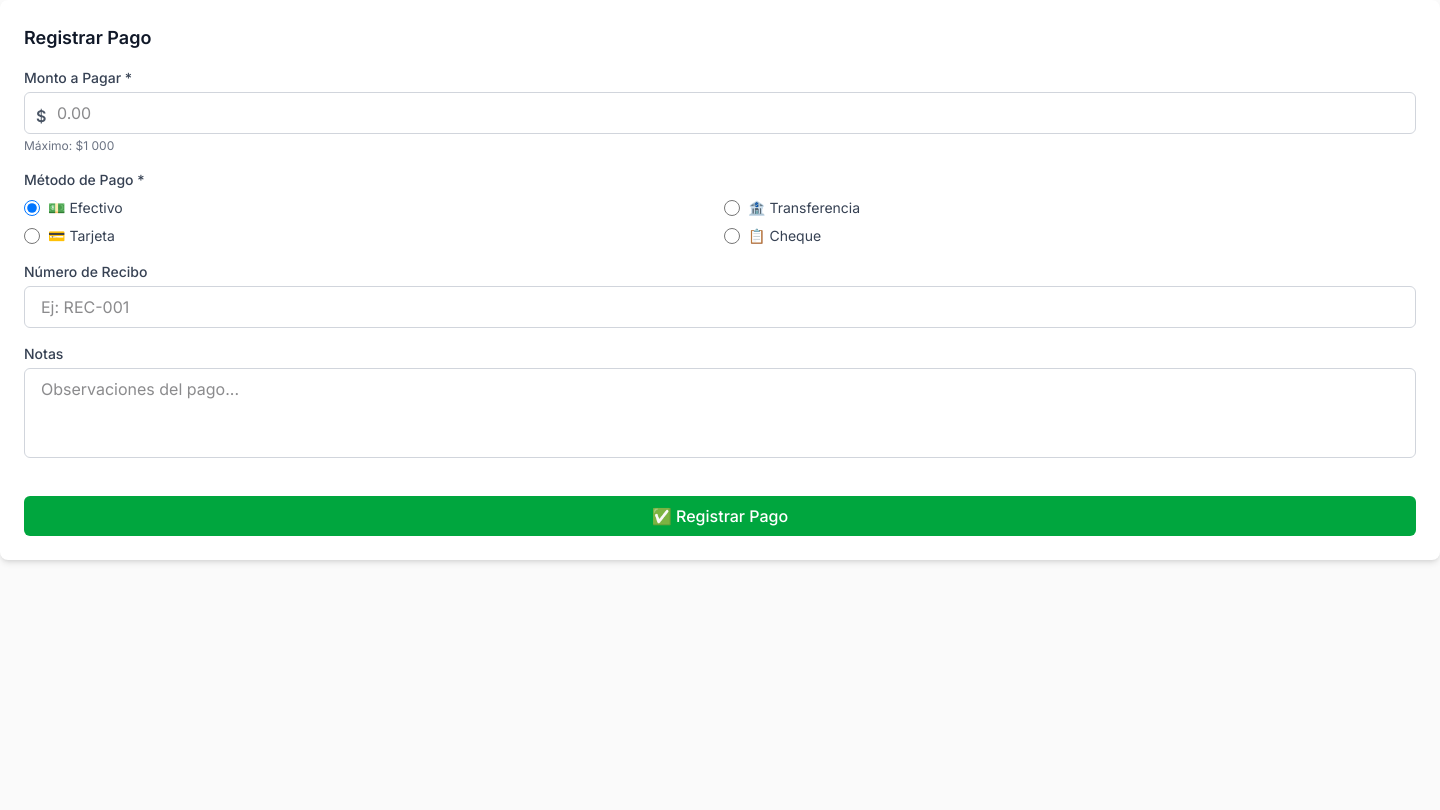
Scenario: PaymentForm Component › should show success message after successful submission
The width and height of the screenshot is (1440, 810).
Step 1. Type "500" into the number field with placeholder "0.00" → (720, 113), box [24,92,1416,134]
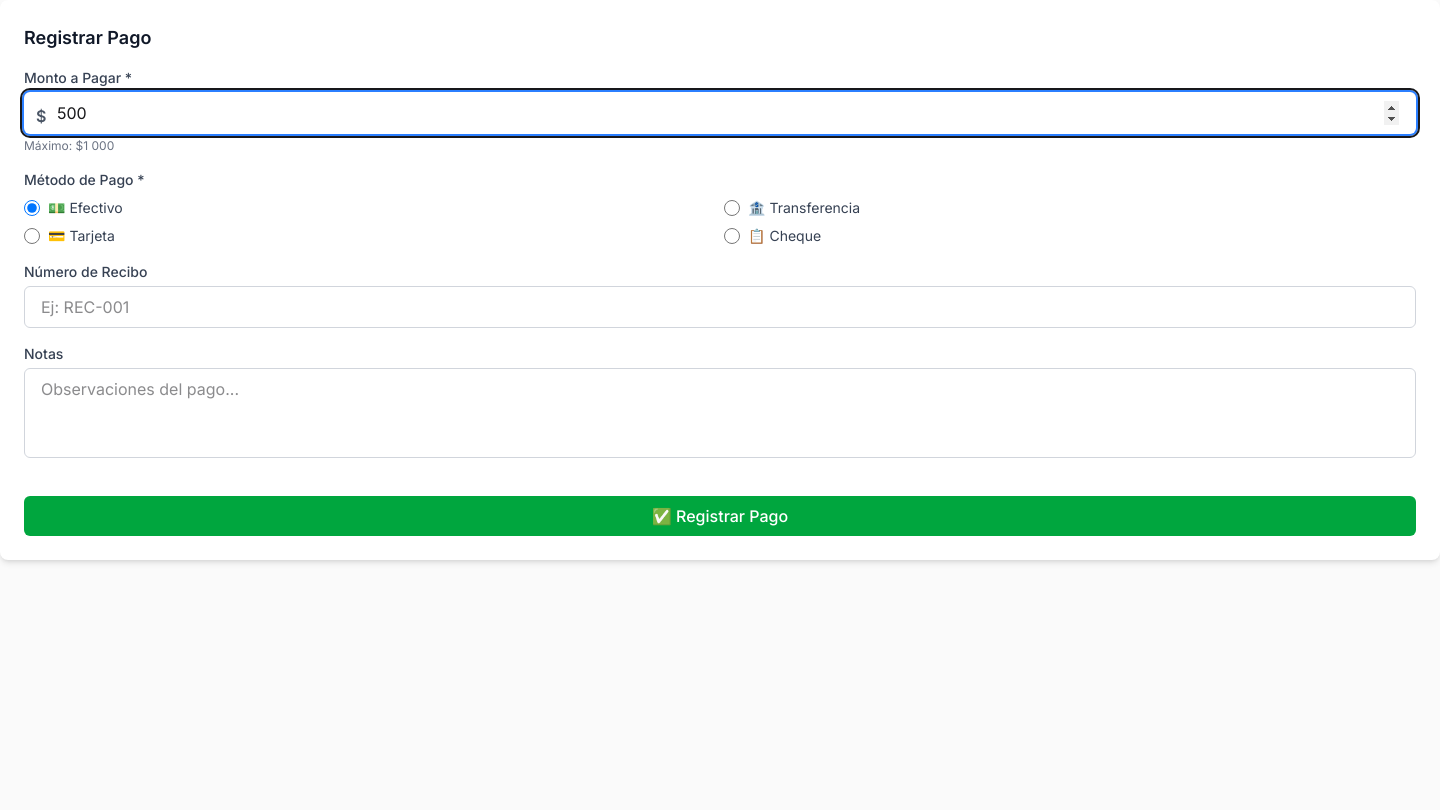
Step 2. Click the button "✅ Registrar Pago" → (720, 516), box [24,496,1416,536]
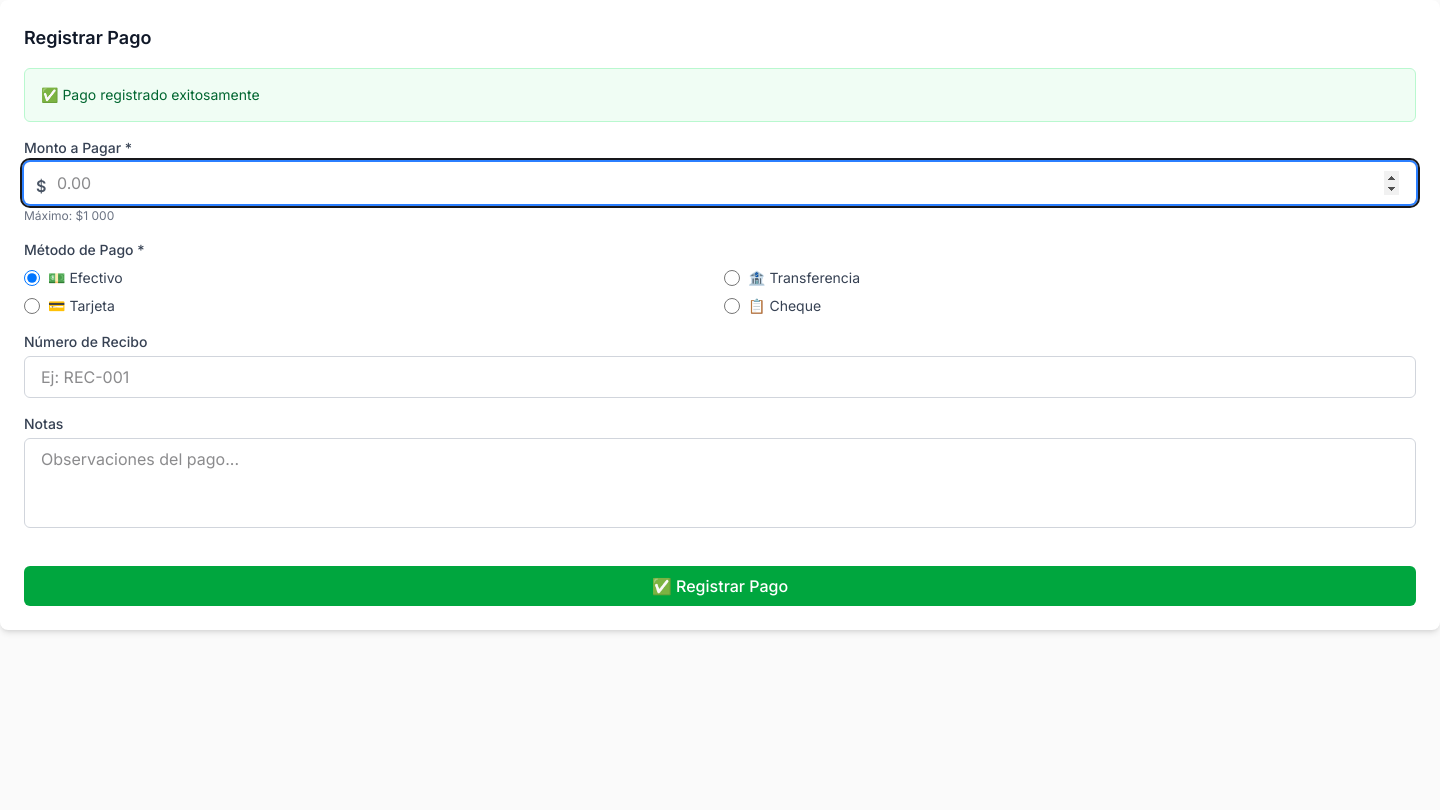
Check: the text "✅ Pago registrado exitosamente" is shown, box [41,86,260,103]
